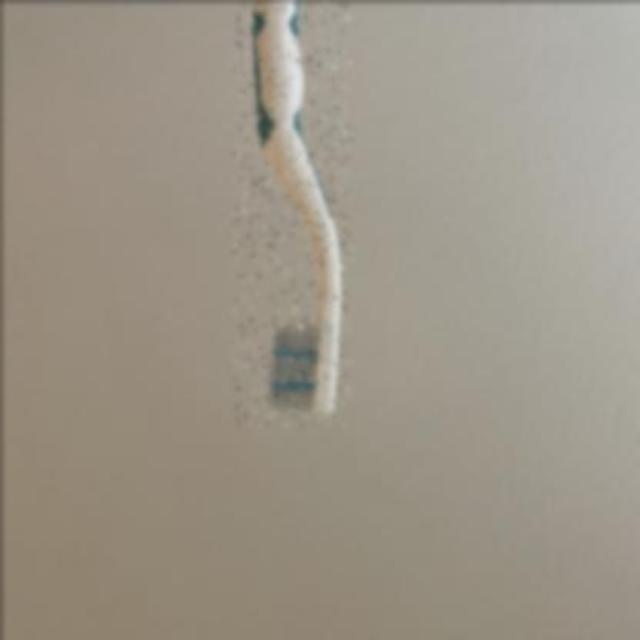toothbrush: (233, 0, 349, 424)
